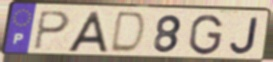8: (152, 14, 182, 55)
A: (65, 10, 110, 55)
D: (107, 11, 148, 56)
G: (187, 13, 224, 57)
J: (228, 16, 260, 56)
P: (33, 10, 72, 52)
